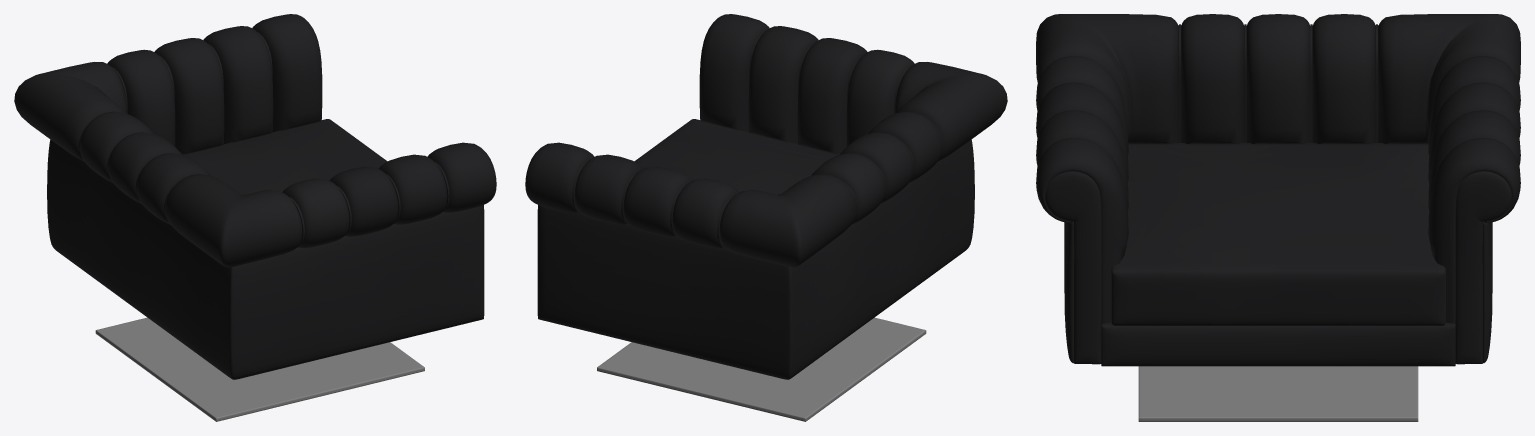
3 renders of one model, left to right at view 1: azimuth 30°, elevation 25°; view 2: azimuth 150°, elevation 25°; view 3: azimuth 270°, elevation 25°, orthographic. The views are drawn at different scales.
Parts seen in each view (by area): view 1: AM121_047; view 2: AM121_047; view 3: AM121_047.
Boxes of the visible parts, x1,y1,x2,y2 form: AM121_047: (14,14,496,421); AM121_047: (525,14,1007,421); AM121_047: (1036,14,1520,421).
Size of the model in its own units: 32.77 by 26.83 by 41.5.
2 materials, 1 textured.
